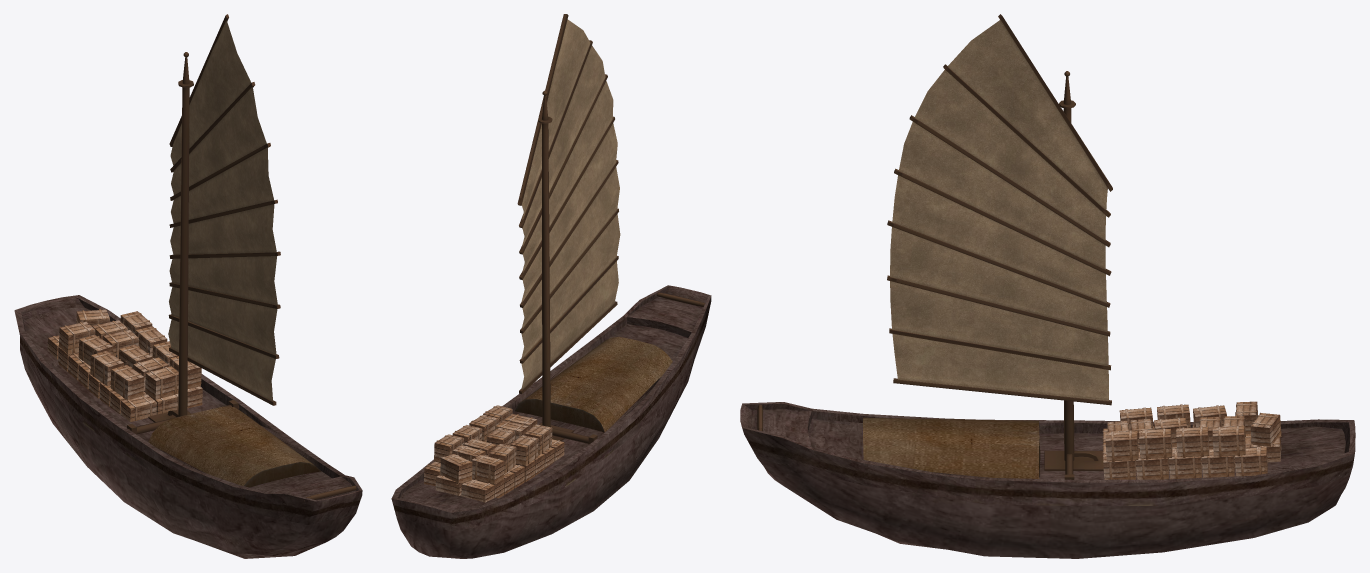
The picture shows the model from 3 angles, left to right: view 1: azimuth 30°, elevation 25°; view 2: azimuth 150°, elevation 25°; view 3: azimuth 270°, elevation 25°; orthographic projection. The views are drawn at different scales.
Parts seen in each view (by area): view 1: boat.003, Goods_case_only.001; view 2: boat.003, Goods_case_only.001; view 3: boat.003, Goods_case_only.001.
Boxes of the visible parts, x1,y1,x2,y2 form: boat.003: (14, 14, 362, 558); Goods_case_only.001: (47, 309, 202, 421); boat.003: (391, 14, 711, 558); Goods_case_only.001: (424, 405, 564, 502); boat.003: (740, 14, 1355, 558); Goods_case_only.001: (1102, 401, 1281, 479).
Size of the model in its own units: 171 by 688 by 719.
2 materials, 2 textured.
